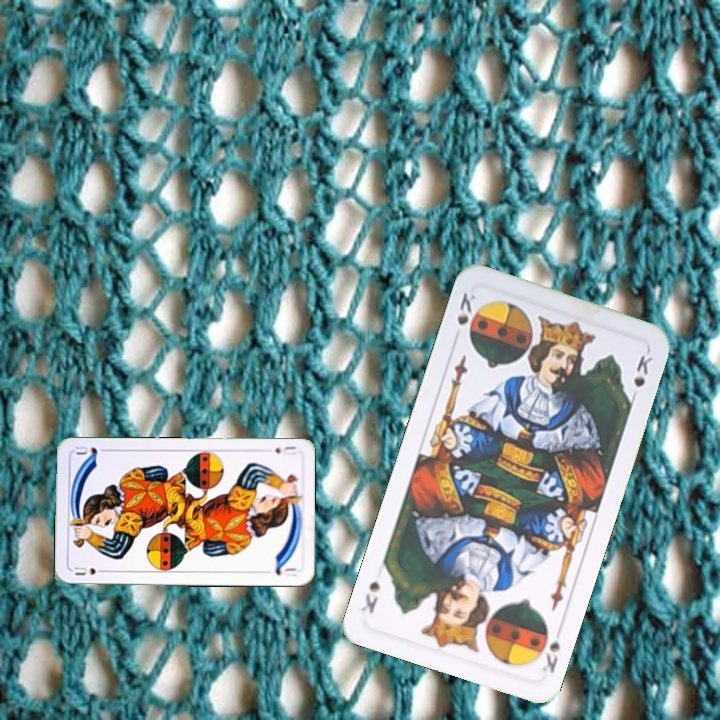SK: (537, 621, 566, 676), (452, 288, 481, 341)
SU: (69, 563, 110, 578), (271, 442, 299, 458)
